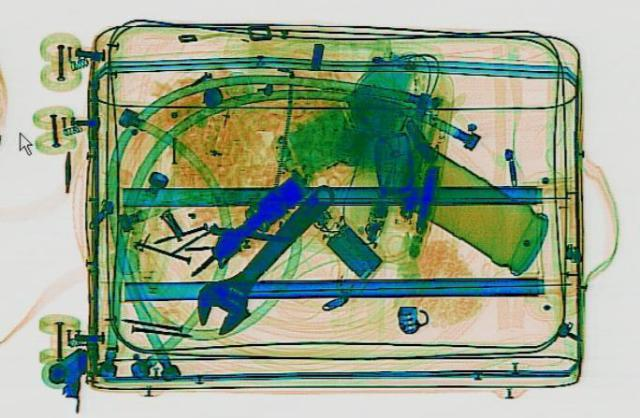Wrench: (174, 175, 356, 334)
